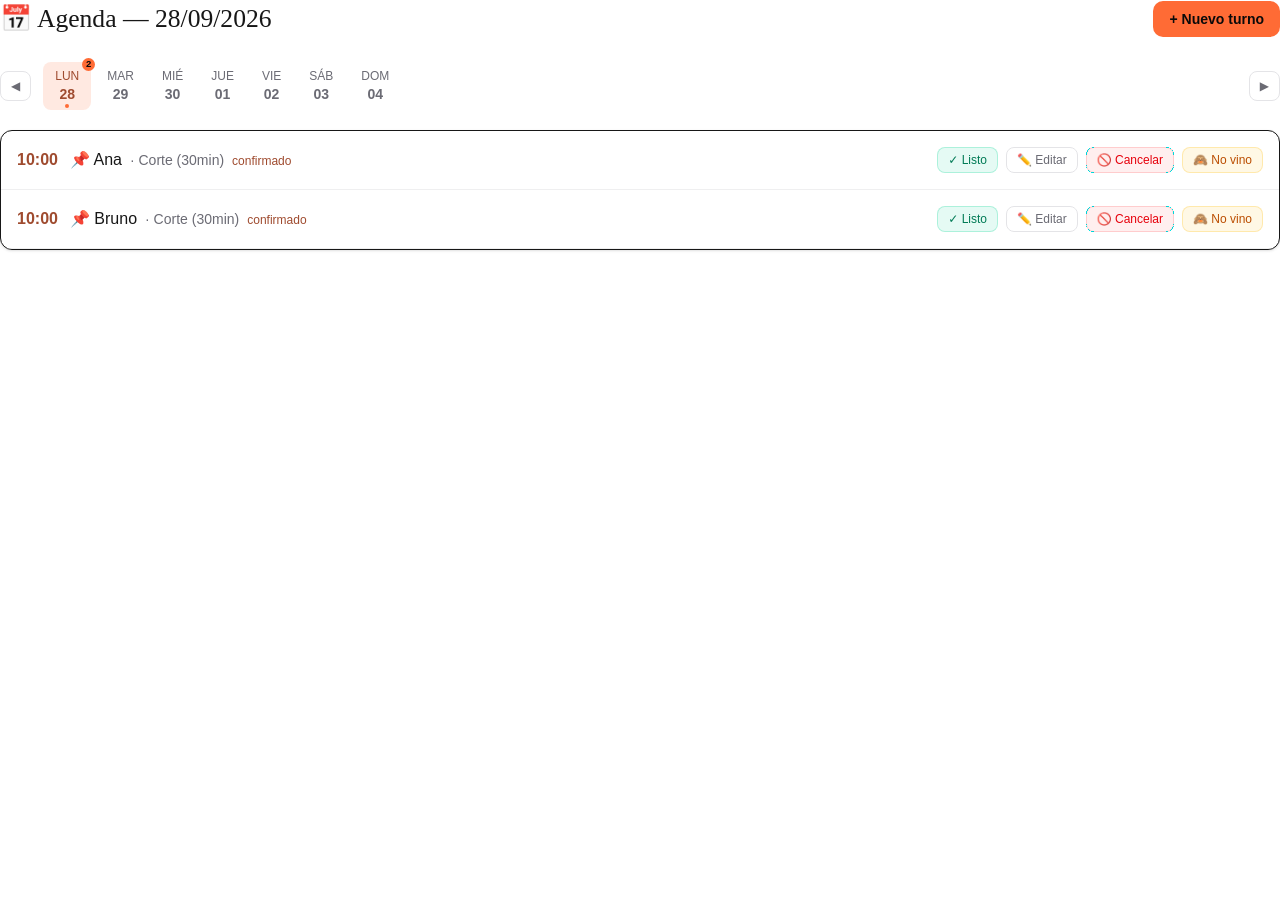
Test: TurnosAgenda (#190 · ABM por estado) › avisa (sin bloquear) cuando ya hay otro turno a la misma hora
The image size is (1280, 900).
Step 1. Click the button with aria-label "Editar turno" → (1042, 160), box left=1006, top=147, right=1078, bottom=173
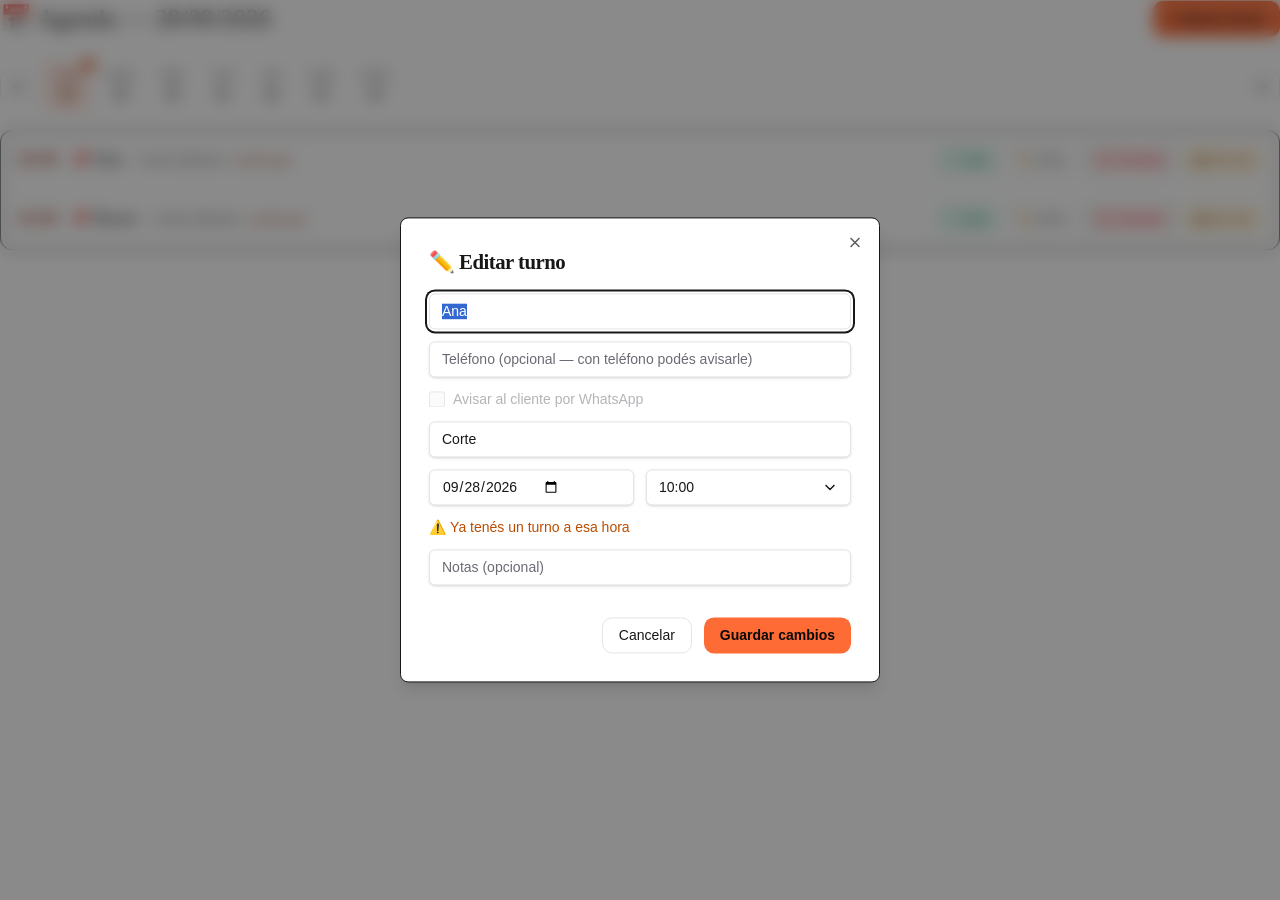
Now the text "⚠️ Ya tenés un turno a esa hora" is shown, box left=429, top=520, right=630, bottom=536
Now the button "Guardar cambios" is enabled, box left=704, top=618, right=851, bottom=654
